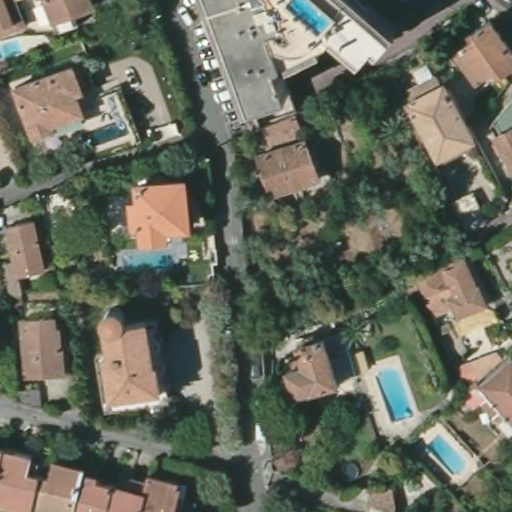pool: (426, 432, 481, 479), (372, 366, 416, 424), (111, 239, 184, 272), (281, 1, 338, 41), (1, 38, 25, 64)
